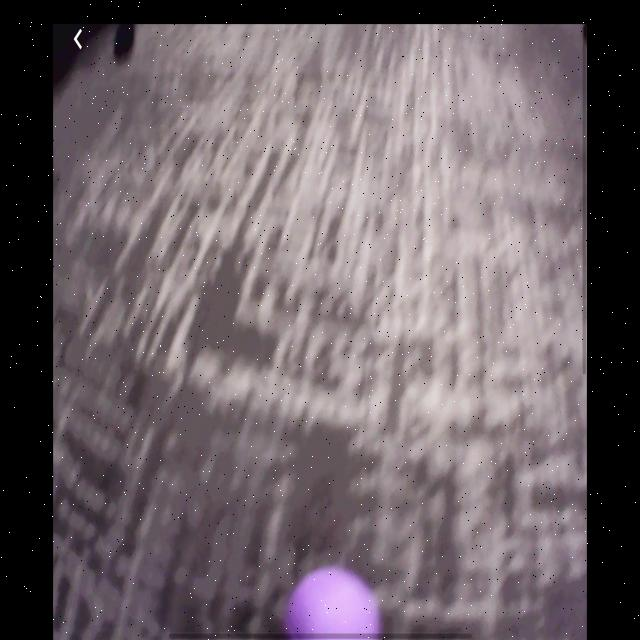ball: (284, 565, 383, 639)
